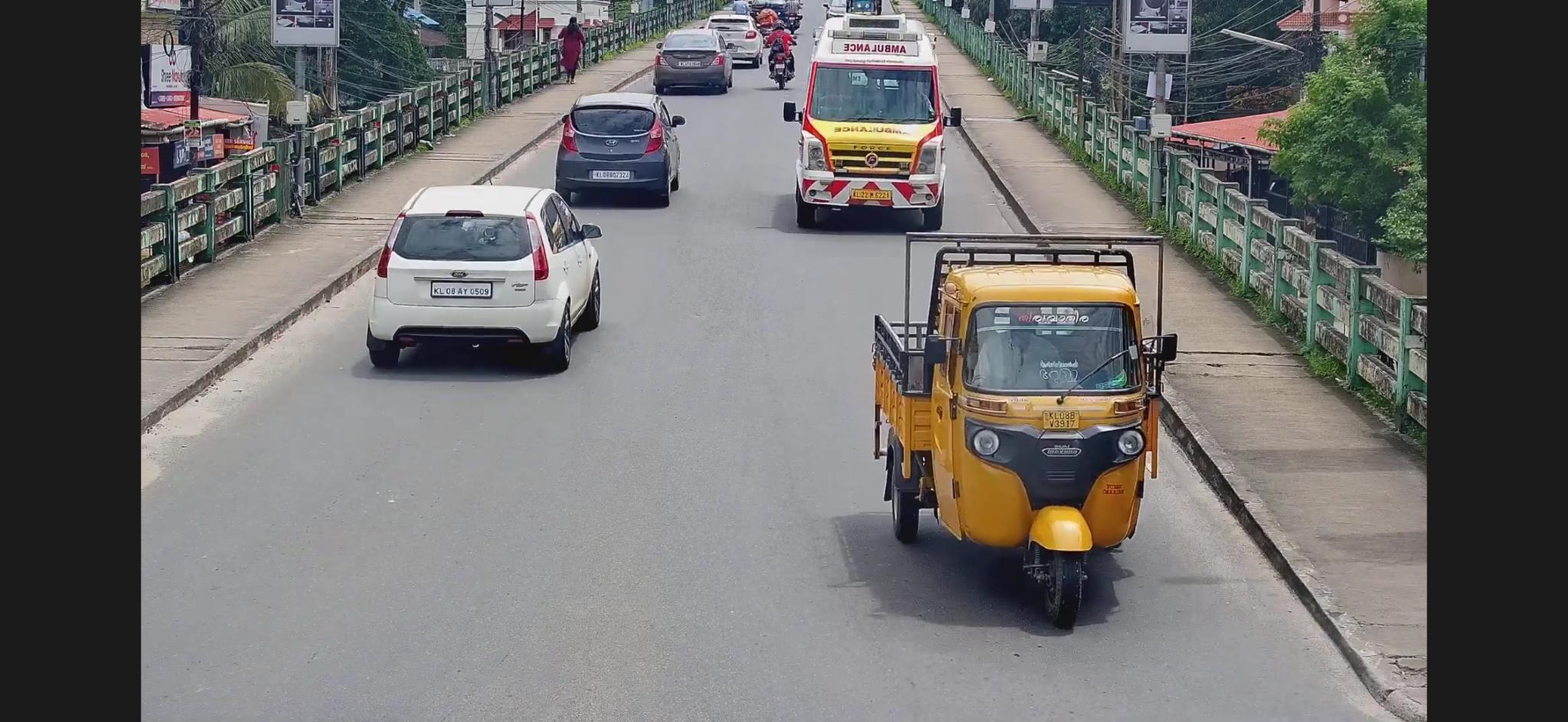ambulance: (792, 8, 940, 231)
